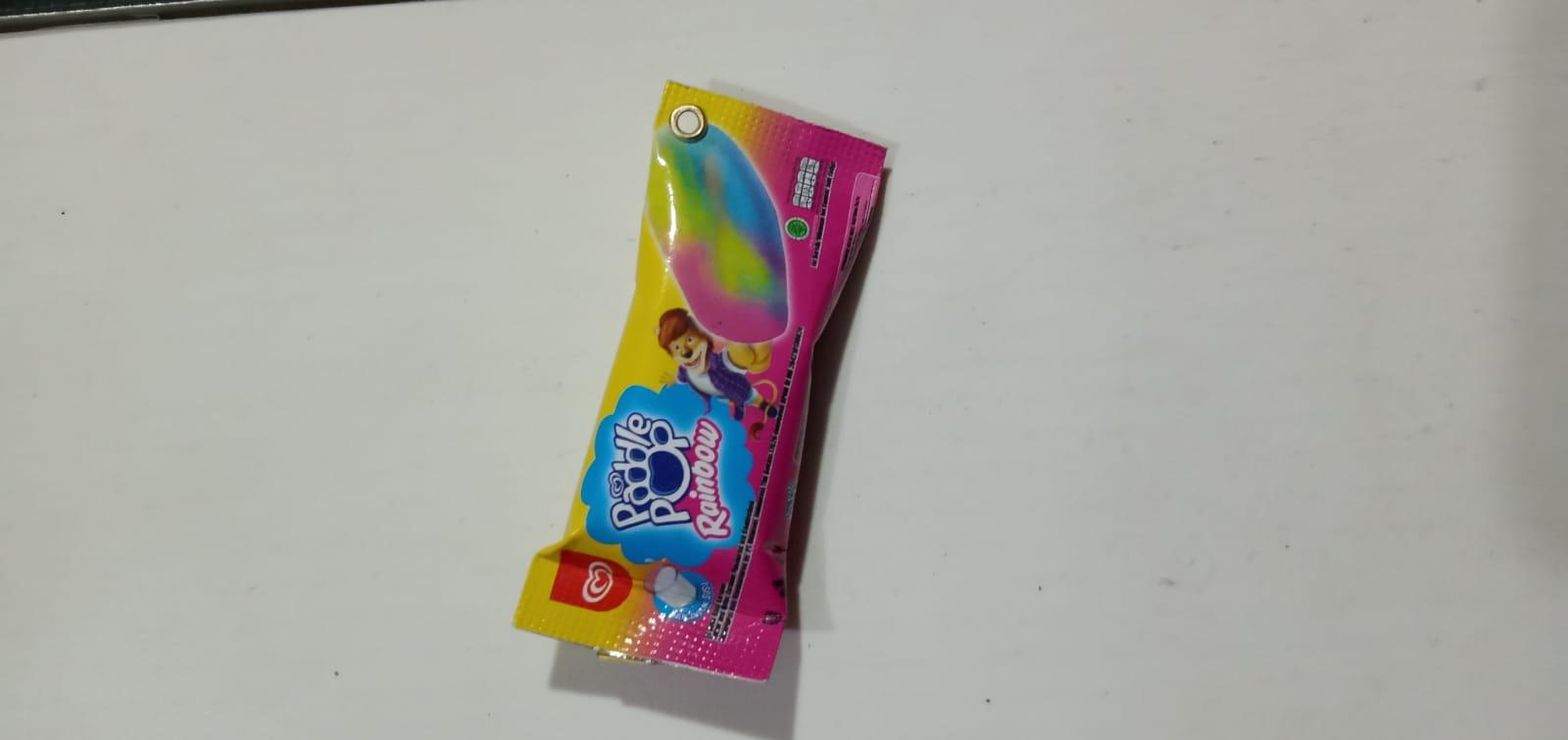Plastik: (511, 76, 892, 694)
